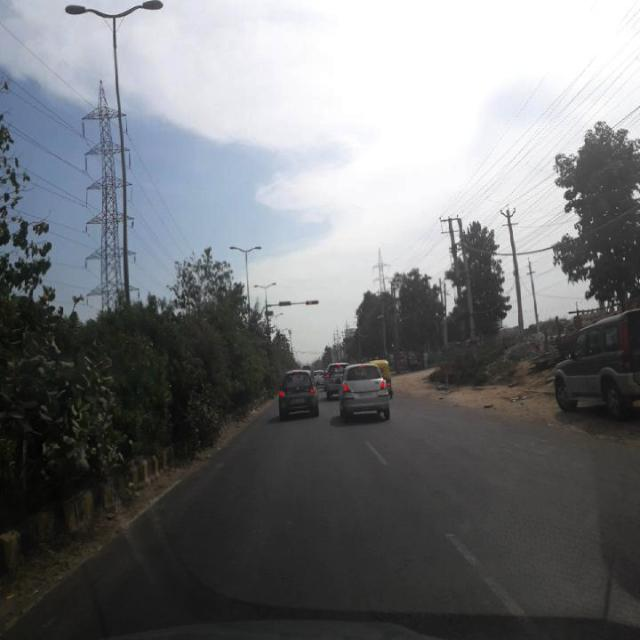crack: (83, 452, 640, 617)
